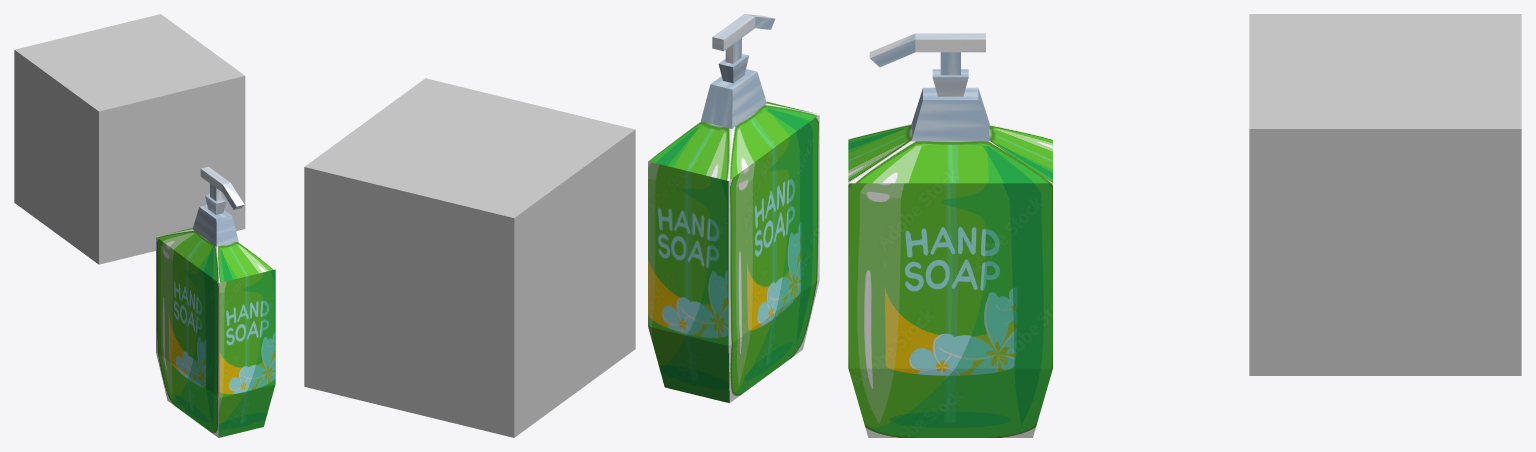
Rendered from soap.fbx.
The picture shows the model from 3 angles, left to right: view 1: azimuth 30°, elevation 25°; view 2: azimuth 150°, elevation 25°; view 3: azimuth 270°, elevation 25°; orthographic projection. The views are drawn at different scales.
Parts seen in each view (by area): view 1: Cube.001, Cube; view 2: Cube.001, Cube; view 3: Cube.001, Cube.
Boxes of the visible parts, x1,y1,x2,y2 form: Cube.001: [14, 14, 245, 264]; Cube: [156, 166, 275, 437]; Cube.001: [304, 78, 635, 437]; Cube: [648, 14, 819, 403]; Cube.001: [1249, 14, 1521, 375]; Cube: [848, 33, 1052, 437].
Bounding box in the file's own units: 206 × 314 × 494.
1 material, 1 textured.
